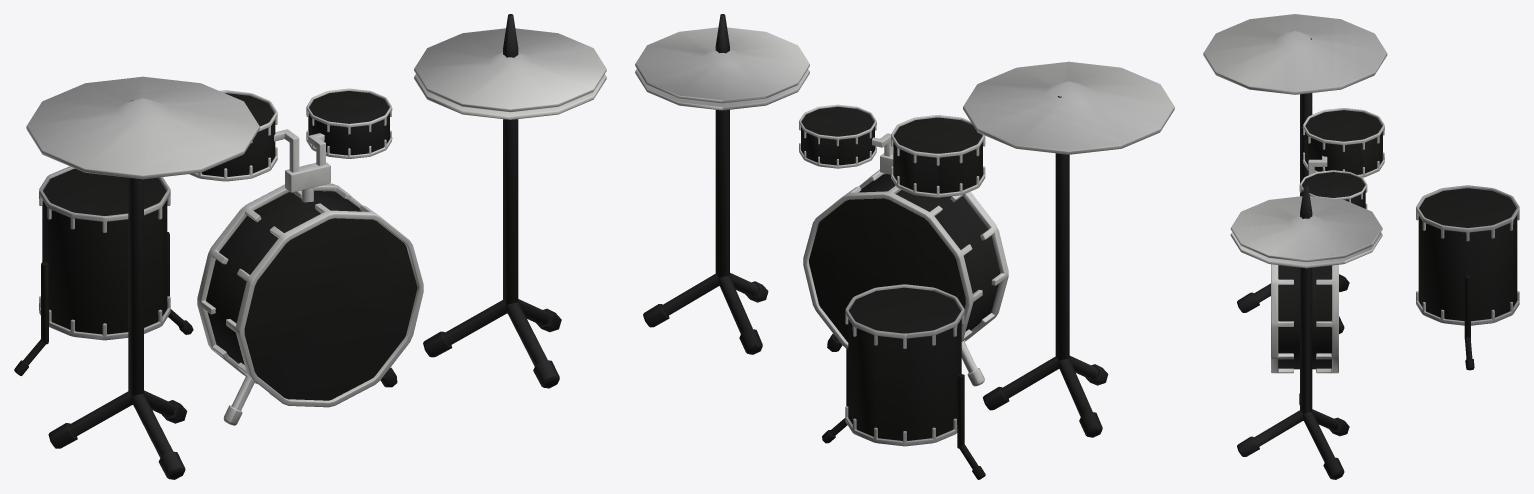
File: drum_kit.001.fbx
3 views of the same model, side by side, from view 1: azimuth 30°, elevation 25°; view 2: azimuth 150°, elevation 25°; view 3: azimuth 270°, elevation 25° (orthographic). The views are drawn at different scales.
Parts seen in each view (by area): view 1: drum_kit.001; view 2: drum_kit.001; view 3: drum_kit.001.
Boxes of the visible parts, x1,y1,x2,y2 form: drum_kit.001: (14,14,606,479); drum_kit.001: (635,14,1174,479); drum_kit.001: (1203,14,1519,479).
Bounding box in the file's own units: 1099 × 684 × 673.
Materials: 1 (1 with a texture image).
